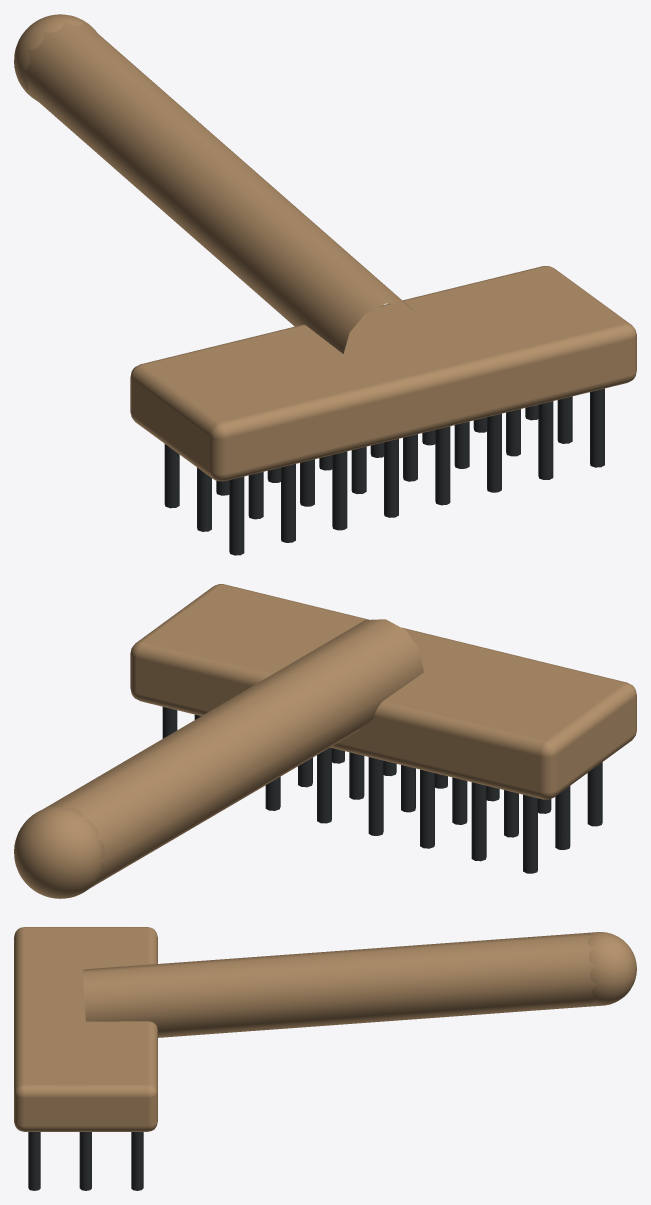
The model's file is rowing-boathouse-and-regatta-course-hull-cleaning-brus-6f7e4612__32150.glb.
3 renders of one model, top to bottom at view 1: azimuth 30°, elevation 25°; view 2: azimuth 150°, elevation 25°; view 3: azimuth 270°, elevation 25°, orthographic. The views are drawn at different scales.
Visible parts, largest first — view 1: hull-cleaning-brush; view 2: hull-cleaning-brush; view 3: hull-cleaning-brush.
Boxes of the visible parts, <box> form: hull-cleaning-brush: <box>14,14,636,555</box>; hull-cleaning-brush: <box>14,584,636,898</box>; hull-cleaning-brush: <box>14,927,636,1190</box>.
Bounding box in the file's own units: 0.19 × 0.098 × 0.303.
